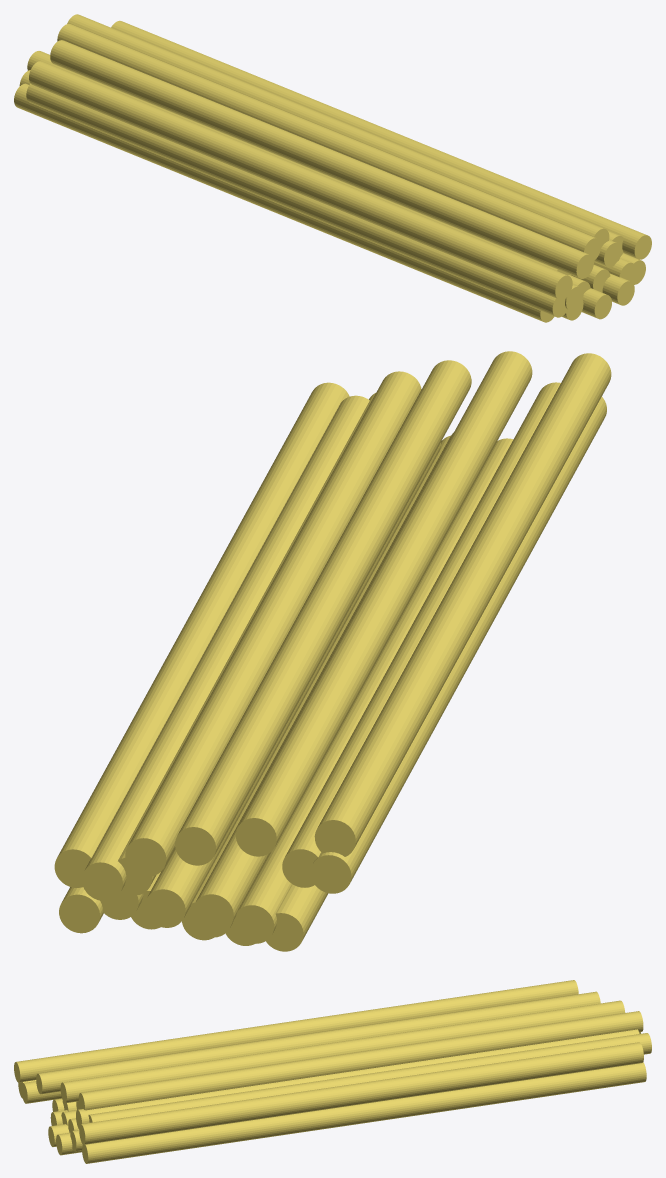
Rendered from uncookedPasta.fbx.
3 views of the same model, one above another, from view 1: azimuth 30°, elevation 25°; view 2: azimuth 150°, elevation 25°; view 3: azimuth 270°, elevation 25° (orthographic). The views are drawn at different scales.
Parts seen in each view (by area): view 1: Cylinder.014, Cylinder.015, Cylinder.013, Cylinder.016, Cylinder.012, Cylinder.018, Cylinder.007, Cylinder.005, Cylinder.001, Cylinder, Cylinder.009, Cylinder.008; view 2: Cylinder.014, Cylinder.013, Cylinder.015, Cylinder.012, Cylinder.018, Cylinder.011, Cylinder.006, Cylinder.017, Cylinder.016, Cylinder.002, Cylinder.005, Cylinder.007 (+3 smaller); view 3: Cylinder.018, Cylinder.010, Cylinder.012, Cylinder.015, Cylinder.013, Cylinder.014, Cylinder.011, Cylinder.009, Cylinder.017, Cylinder.001, Cylinder.
Boxes of the visible parts, x1=… form: Cylinder.014: x1=50, y1=40, x2=593, y2=278; Cylinder.015: x1=29, y1=61, x2=572, y2=299; Cylinder.013: x1=57, y1=23, x2=600, y2=260; Cylinder.016: x1=26, y1=83, x2=567, y2=317; Cylinder.012: x1=67, y1=14, x2=609, y2=247; Cylinder.018: x1=111, y1=20, x2=651, y2=259; Cylinder.007: x1=14, y1=83, x2=554, y2=322; Cylinder.005: x1=27, y1=51, x2=570, y2=275; Cylinder.001: x1=602, y1=273, x2=634, y2=305; Cylinder: x1=582, y1=288, x2=611, y2=319; Cylinder.009: x1=594, y1=240, x2=621, y2=267; Cylinder.008: x1=593, y1=258, x2=636, y2=282; Cylinder.014: x1=235, y1=351, x2=532, y2=856; Cylinder.013: x1=175, y1=360, x2=471, y2=865; Cylinder.015: x1=314, y1=353, x2=611, y2=856; Cylinder.012: x1=125, y1=371, x2=421, y2=876; Cylinder.018: x1=54, y1=382, x2=349, y2=887; Cylinder.011: x1=82, y1=395, x2=369, y2=900; Cylinder.006: x1=233, y1=438, x2=513, y2=943; Cylinder.017: x1=282, y1=382, x2=560, y2=887; Cylinder.016: x1=310, y1=396, x2=606, y2=893; Cylinder.002: x1=144, y1=442, x2=440, y2=927; Cylinder.005: x1=193, y1=432, x2=453, y2=932; Cylinder.007: x1=266, y1=884, x2=328, y2=951; Cylinder.018: x1=79, y1=1042, x2=643, y2=1144; Cylinder.010: x1=82, y1=1062, x2=646, y2=1163; Cylinder.012: x1=78, y1=1011, x2=643, y2=1110; Cylinder.015: x1=14, y1=980, x2=578, y2=1082; Cylinder.013: x1=60, y1=1000, x2=625, y2=1103; Cylinder.014: x1=36, y1=991, x2=600, y2=1094; Cylinder.011: x1=88, y1=1033, x2=651, y2=1122; Cylinder.009: x1=76, y1=1029, x2=639, y2=1129; Cylinder.017: x1=21, y1=1081, x2=61, y2=1103; Cylinder.001: x1=56, y1=1132, x2=81, y2=1155; Cylinder: x1=48, y1=1124, x2=69, y2=1146.
Size of the model in its own units: 141 by 68.04 by 16.98.
